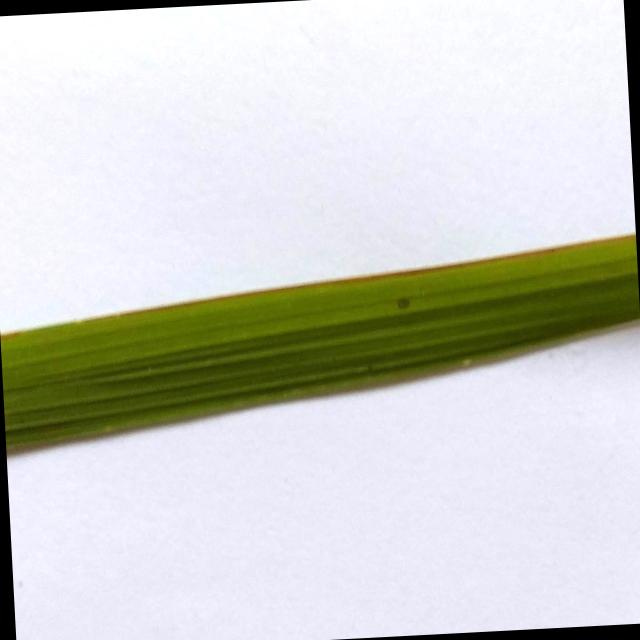Rice_Healthy: (0, 235, 640, 453)
